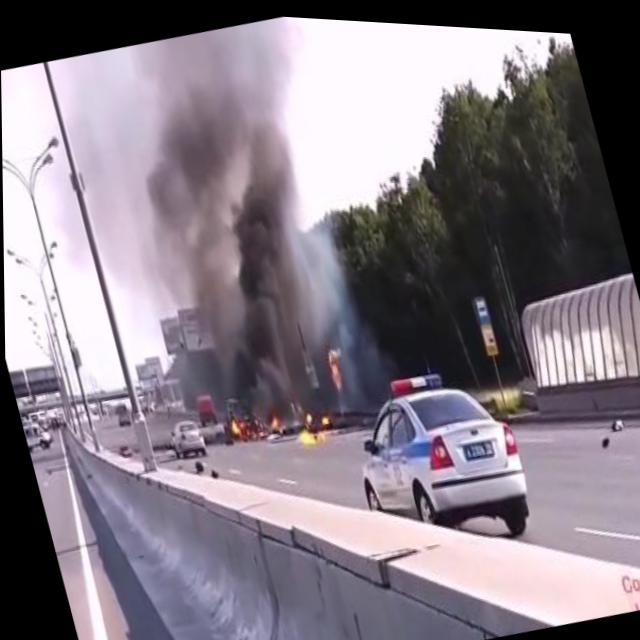fire: (224, 402, 287, 445), (289, 403, 338, 450), (317, 333, 355, 393)
